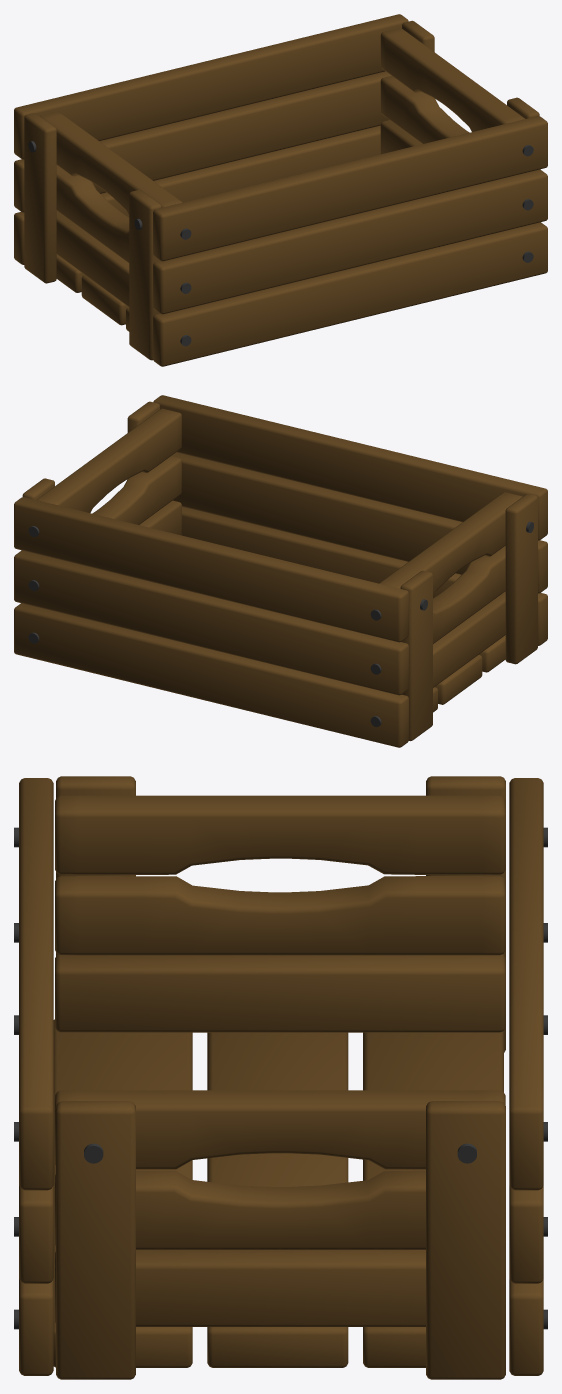
Rendered from Basket_mid.fbx.
3 renders of one model, top to bottom at view 1: azimuth 30°, elevation 25°; view 2: azimuth 150°, elevation 25°; view 3: azimuth 270°, elevation 25°, orthographic. The views are drawn at different scales.
Visible parts, largest first — view 1: Object002; view 2: Object002; view 3: Object002.
Part boxes in pixels (<box>): Object002: <box>14,14,547,366</box>; Object002: <box>14,395,547,747</box>; Object002: <box>14,776,547,1379</box>.
Size of the model in its own units: 86.37 by 32.24 by 57.27.
